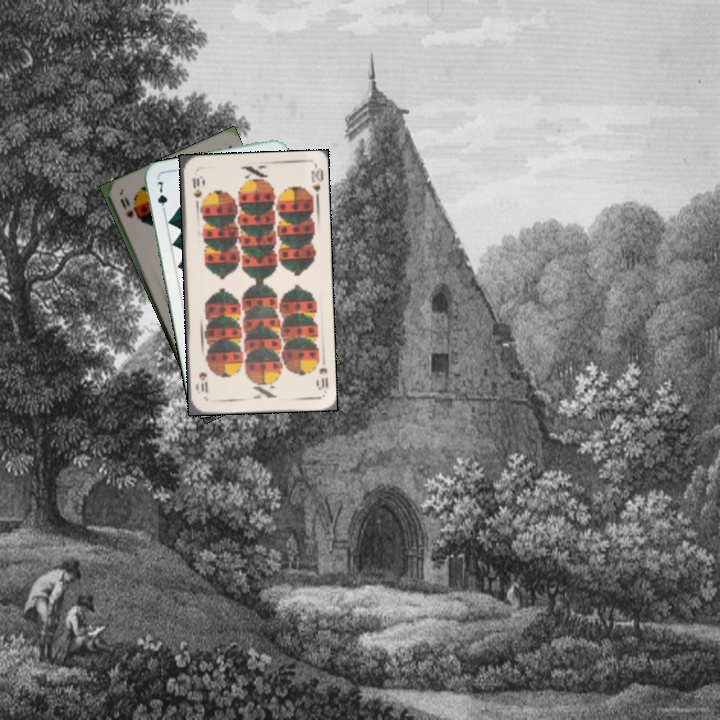G7: (152, 177, 170, 216)
S10: (189, 172, 204, 210), (312, 364, 331, 392)
SO: (116, 194, 136, 222)
